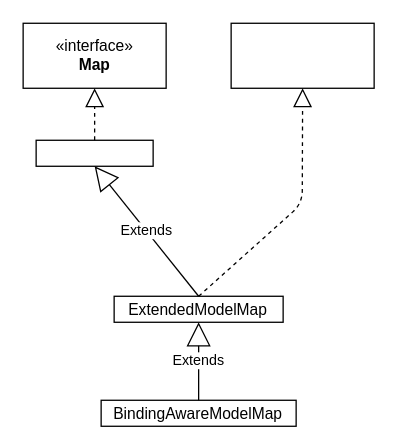
This 397x448 diagram has some shape labels left out. The shapes that lost their labels are listed below. From the top down, each one's centre as x and y in pixels, then its label:
(302,55): «interface» Modle
(94,152): ModelMap
